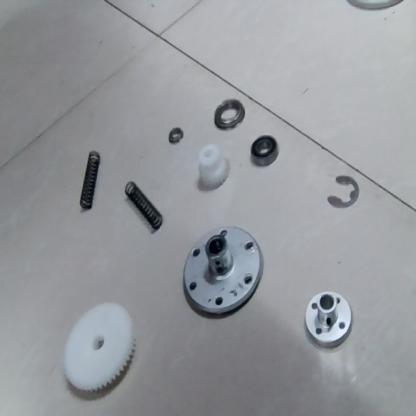FOD: (178, 223, 265, 320), (59, 300, 137, 392), (303, 290, 357, 350), (124, 180, 166, 230), (76, 149, 102, 215), (196, 141, 229, 191), (324, 176, 364, 209), (212, 95, 246, 132), (250, 132, 280, 164), (164, 122, 188, 151)
